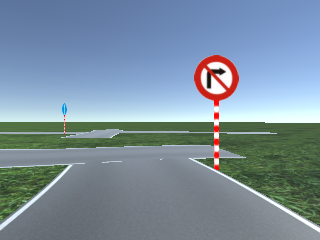-5: (1, 196, 320, 239)
NoRight: (194, 55, 239, 100)
